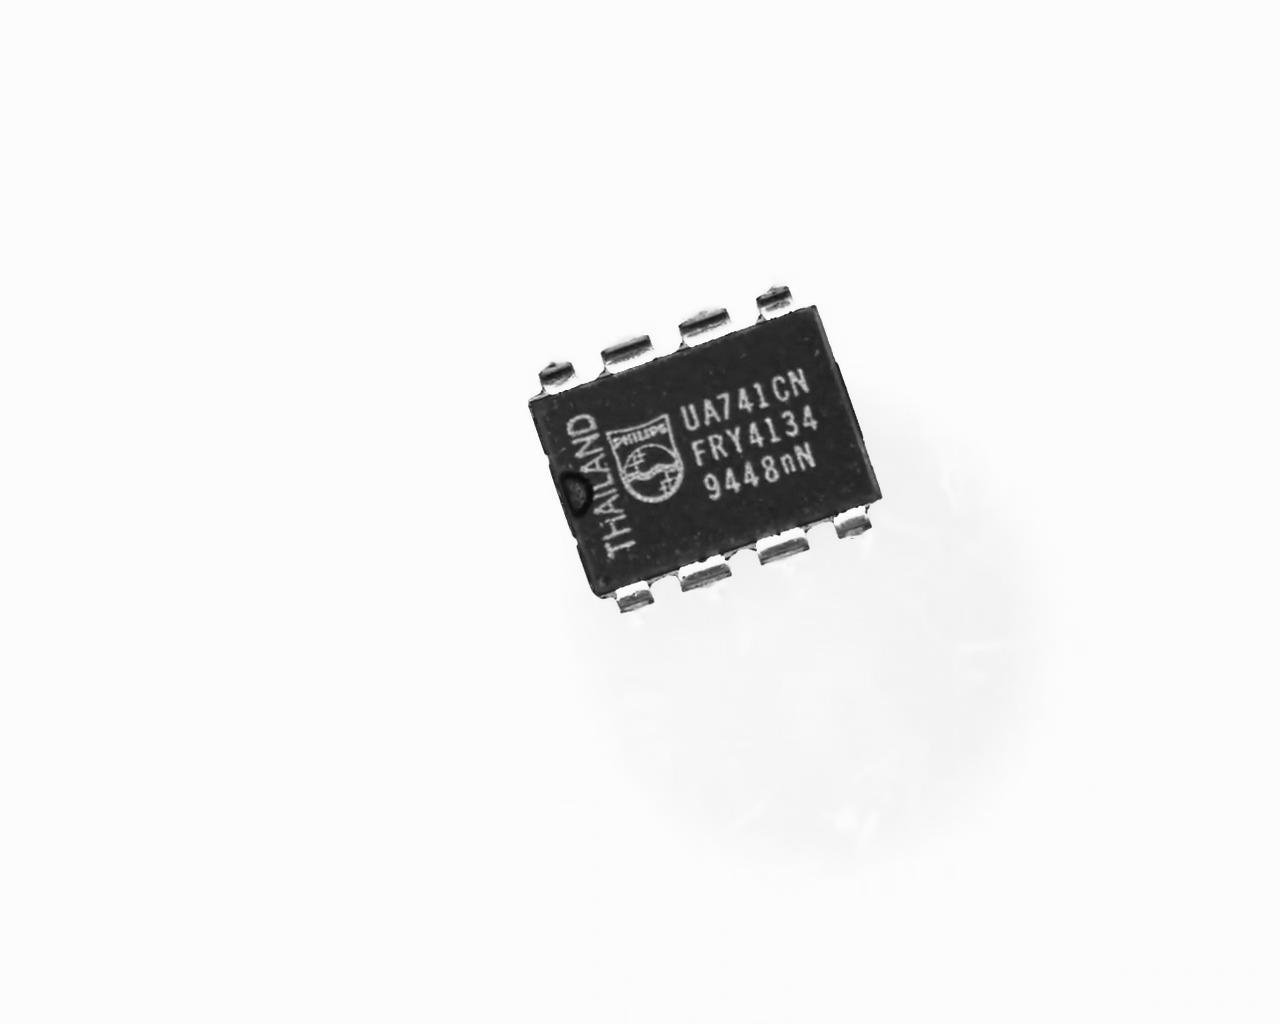Leg: (597, 330, 664, 381), (679, 544, 737, 602), (671, 303, 738, 350), (609, 573, 664, 627), (535, 342, 582, 401), (754, 527, 809, 573), (752, 279, 805, 326), (831, 501, 881, 544)
